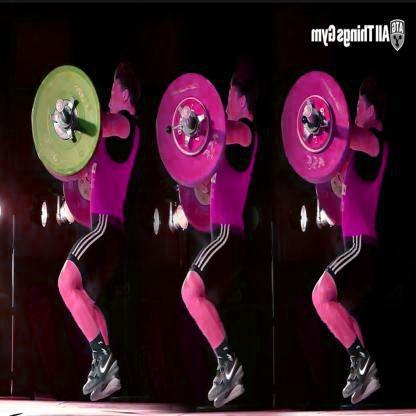Barbell: (178, 105, 190, 121), (302, 104, 313, 118), (54, 98, 62, 115)
